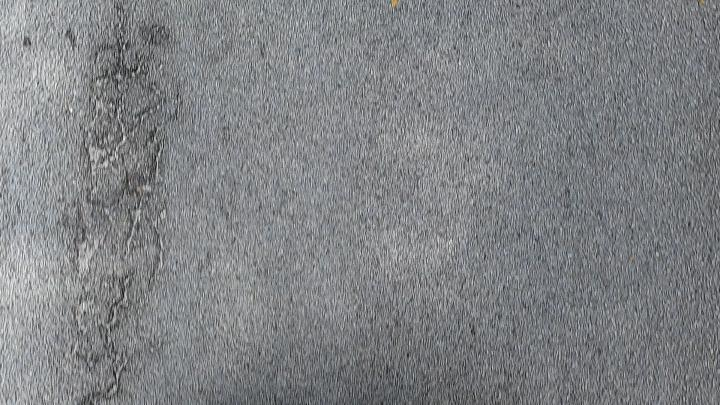Crack: (78, 32, 166, 405), (88, 40, 164, 170), (123, 127, 164, 257), (99, 267, 131, 394), (77, 222, 105, 277), (147, 215, 164, 269)
